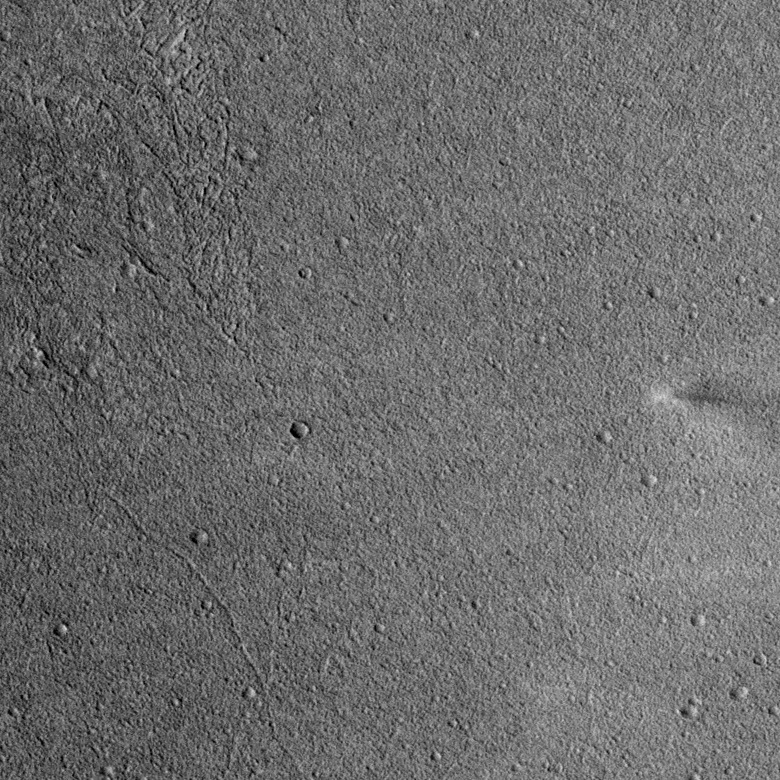dust_devil: (650, 379, 749, 415)
